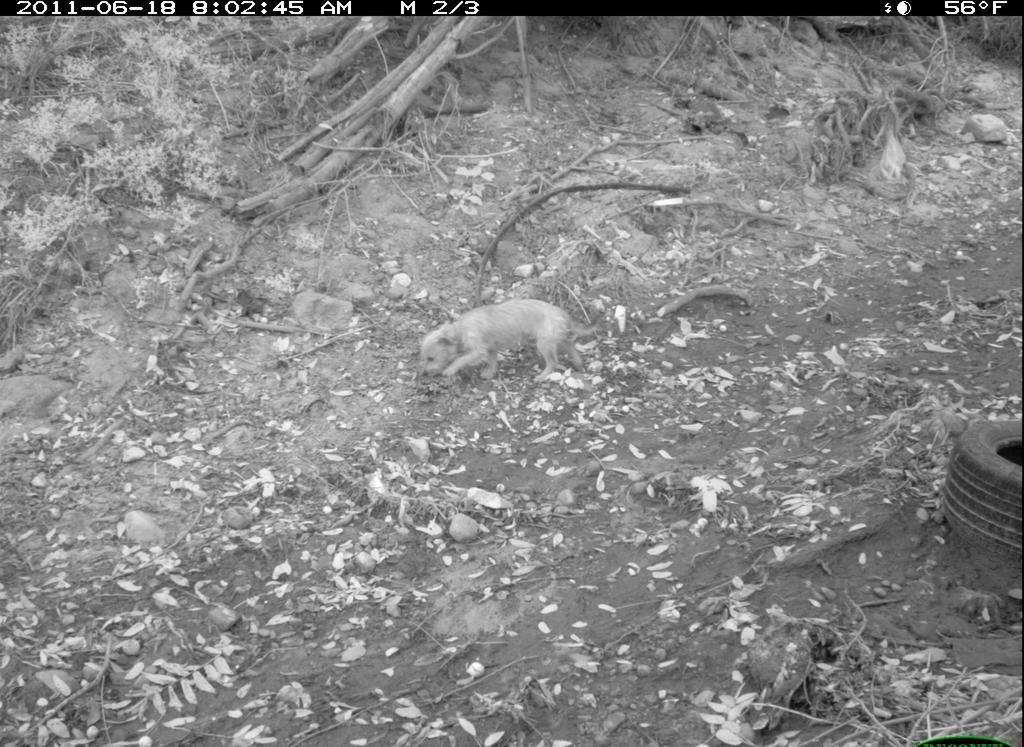dog: (405, 292, 607, 386)
